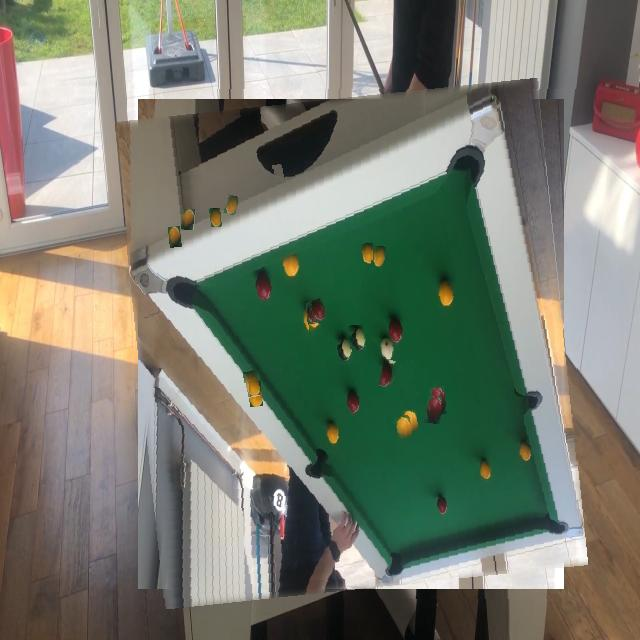Ball: (425, 396, 442, 424), (381, 360, 398, 388), (351, 326, 367, 352), (245, 371, 260, 398), (395, 416, 412, 439), (311, 299, 327, 321), (310, 324, 324, 348), (349, 275, 363, 298), (300, 340, 312, 365), (372, 246, 386, 267), (183, 209, 196, 230), (225, 195, 238, 214), (273, 165, 284, 183)
Billiard table: (128, 89, 578, 599)
